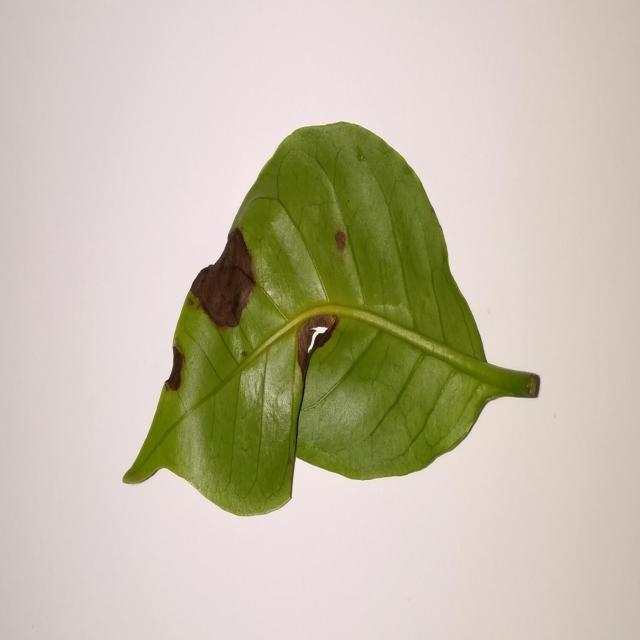Enfermedad-Antracnosis: (123, 121, 542, 520)
